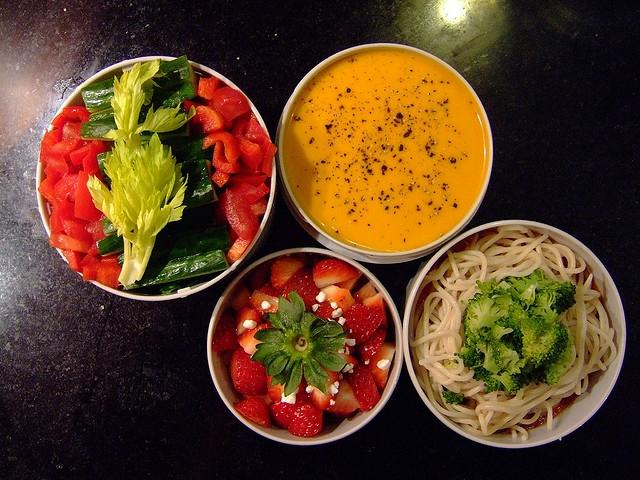broccoli: (520, 317, 569, 364), (461, 293, 507, 343), (499, 268, 564, 299), (476, 326, 502, 374), (505, 300, 524, 356), (528, 288, 558, 323), (512, 284, 540, 311)
lettuce: (86, 57, 196, 290)
strawberry: (228, 346, 268, 396), (344, 360, 382, 412), (212, 306, 242, 367), (268, 393, 316, 430), (281, 270, 320, 312), (345, 304, 383, 346), (312, 258, 360, 290), (288, 404, 328, 438), (328, 378, 361, 418), (369, 342, 395, 391), (232, 398, 272, 428), (270, 257, 304, 290), (238, 324, 274, 355), (320, 285, 356, 312), (358, 329, 387, 362), (250, 289, 278, 322), (248, 260, 274, 292), (236, 306, 262, 335), (352, 282, 378, 306), (231, 286, 253, 314), (327, 350, 358, 367), (267, 376, 285, 404), (260, 280, 284, 298)
tomato: (225, 188, 259, 241), (232, 118, 264, 170), (213, 86, 251, 122), (82, 262, 121, 289), (48, 231, 94, 253), (212, 140, 241, 174), (190, 106, 224, 134), (44, 156, 70, 176), (60, 121, 82, 142), (238, 163, 266, 176), (54, 199, 74, 217), (68, 160, 84, 175), (70, 182, 78, 201)
